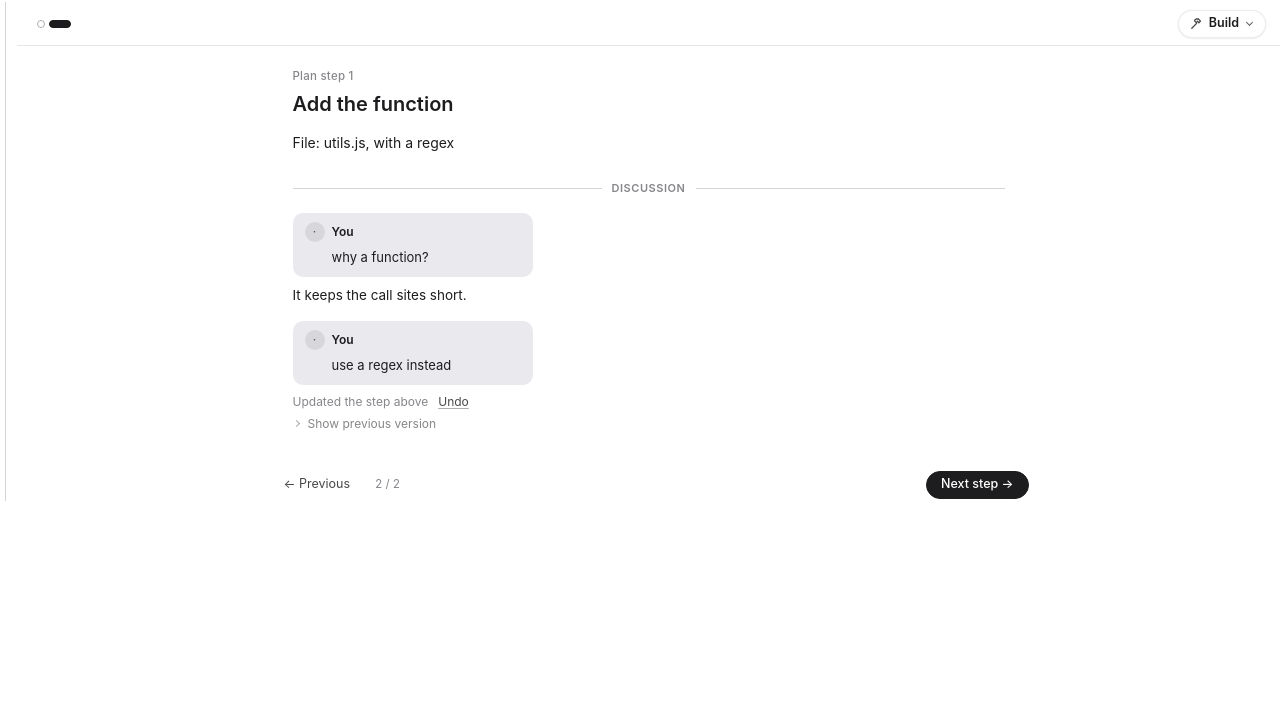
StepsView › a revision replaces the step, noted in the discussion, and Undo puts the previous version back
Expected: the element with class "step-content" shows "with a regex", x1=292 y1=134 x2=454 y2=151
Expected: the element with class "step-discussion-divider" reads "Discussion", x1=612 y1=181 x2=686 y2=195
Click the button "Undo": (454, 402) x1=438 y1=393 x2=469 y2=411
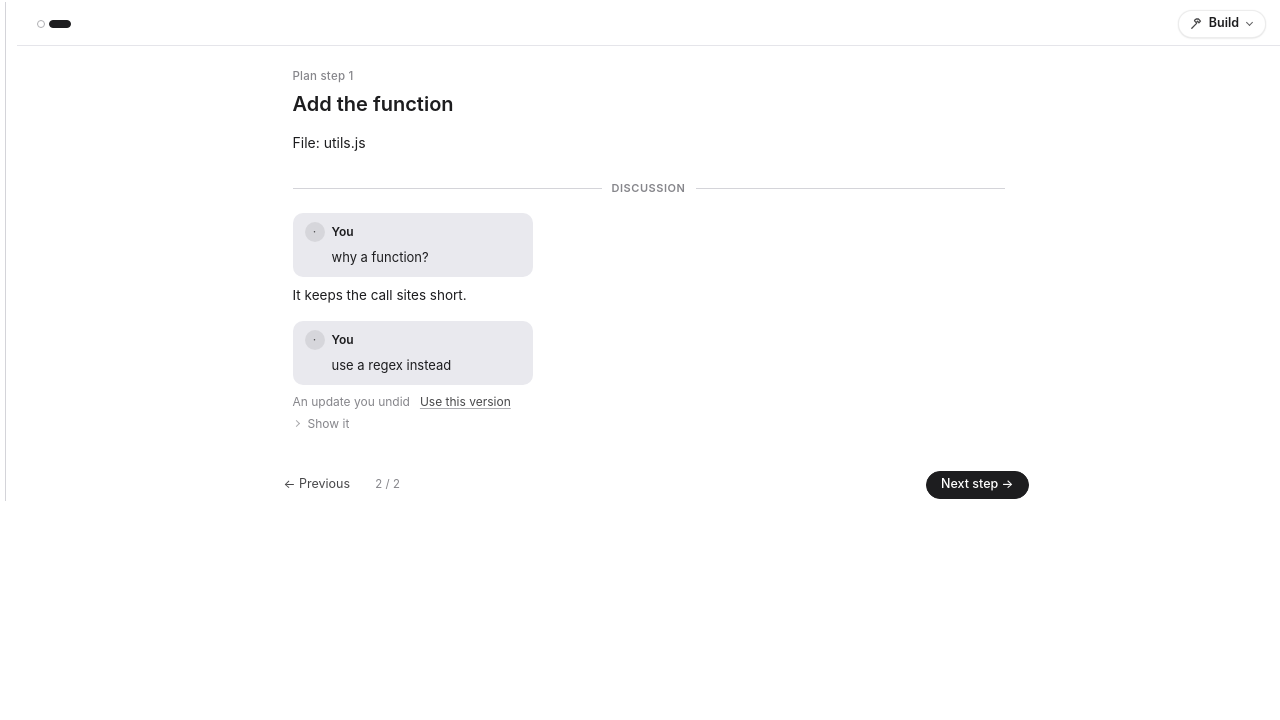
Expected: the element with class "step-content" reads "File: utils.js", x1=292 y1=134 x2=366 y2=151
Expected: the element with class "step-content" does not show "with a regex", x1=292 y1=134 x2=366 y2=151
Click the button "Use this version": (465, 402) x1=420 y1=393 x2=511 y2=411
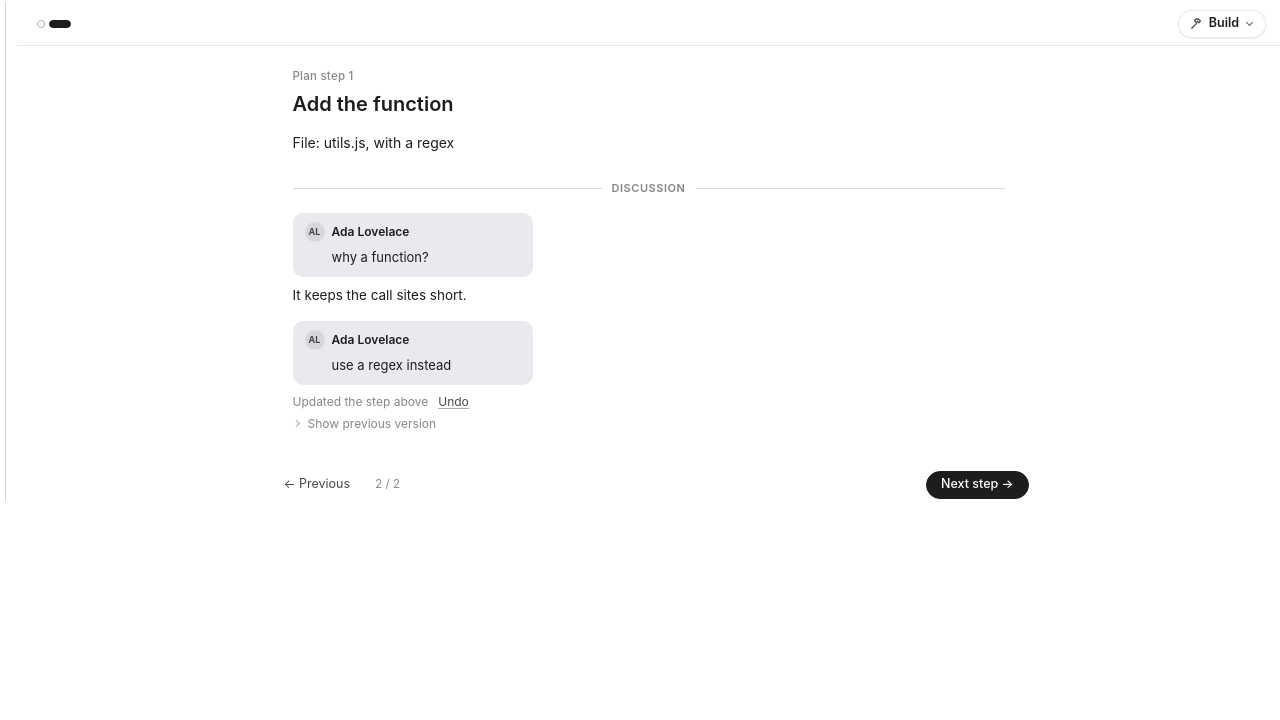
Result: the element with class "step-content" shows "with a regex" at x1=292 y1=134 x2=454 y2=151
